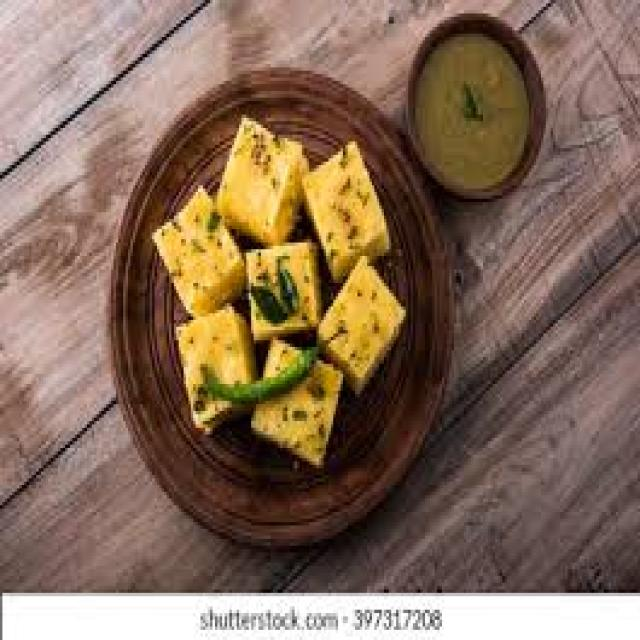DHOKLA: (310, 259, 413, 402), (151, 185, 243, 325), (303, 141, 394, 282), (214, 115, 312, 244), (249, 336, 342, 470), (173, 307, 262, 432), (249, 237, 321, 338)
